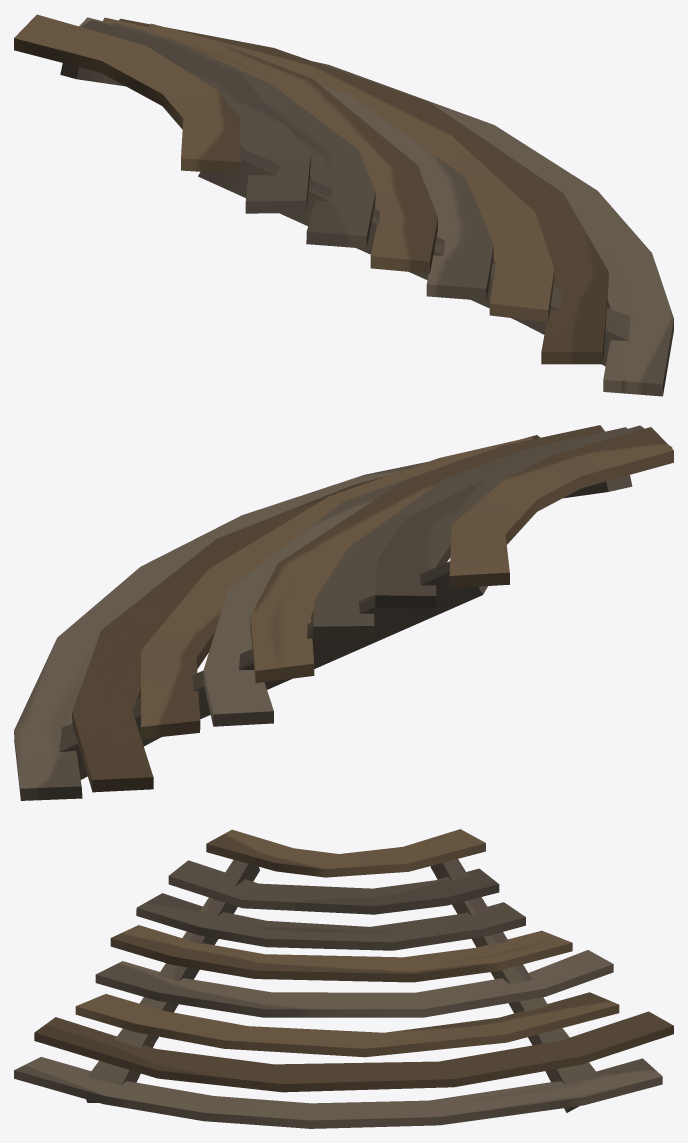
The model's file is SM_Bld_Dock_Stairs_04.fbx.
The picture shows the model from 3 angles, top to bottom: view 1: azimuth 30°, elevation 25°; view 2: azimuth 150°, elevation 25°; view 3: azimuth 270°, elevation 25°; orthographic projection. The views are drawn at different scales.
Visible parts, largest first — view 1: SM_Bld_Dock_Stairs_04; view 2: SM_Bld_Dock_Stairs_04; view 3: SM_Bld_Dock_Stairs_04.
Part boxes in pixels (x1,y1,x2,y2): SM_Bld_Dock_Stairs_04: (14,14,673,396); SM_Bld_Dock_Stairs_04: (14,425,673,800); SM_Bld_Dock_Stairs_04: (14,829,673,1128).
Size of the model in its own units: 292 by 134 by 508.
